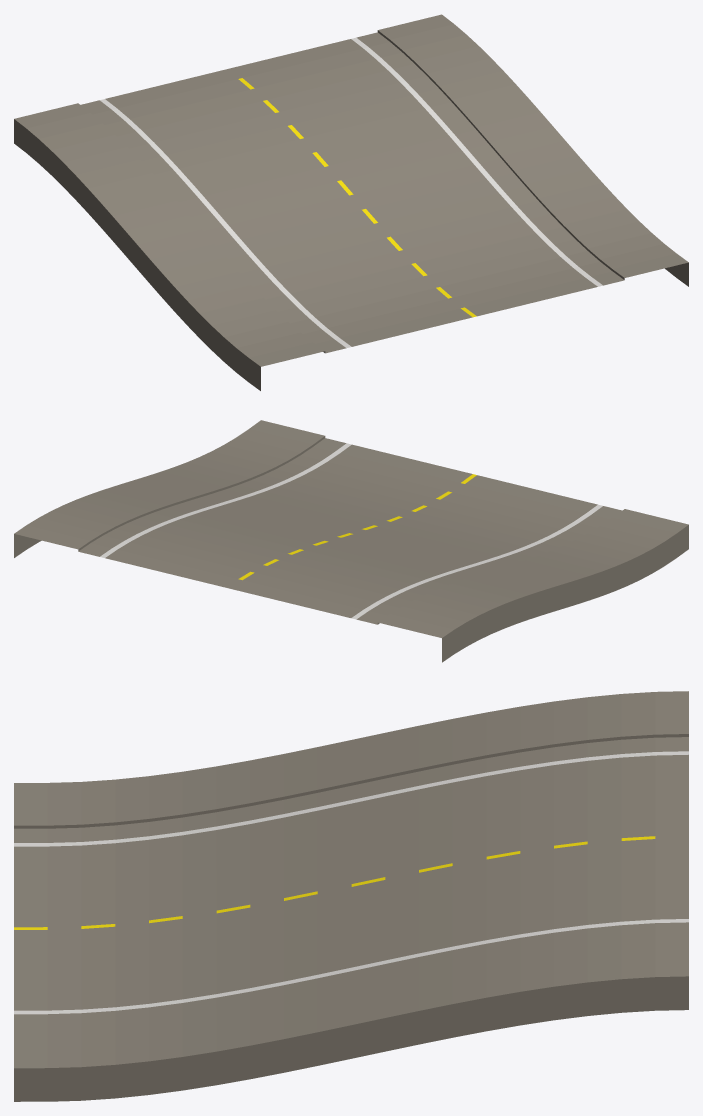
File: straight_Climb.fbx
The picture shows the model from 3 angles, top to bottom: view 1: azimuth 30°, elevation 25°; view 2: azimuth 150°, elevation 25°; view 3: azimuth 270°, elevation 25°; orthographic projection. The views are drawn at different scales.
Parts seen in each view (by area): view 1: Straight; view 2: Straight; view 3: Straight.
Boxes of the visible parts, left/top/right/bottom form: Straight: left=14, top=14, right=688, bottom=390; Straight: left=14, top=420, right=688, bottom=662; Straight: left=14, top=691, right=688, bottom=1101.
Bounding box in the file's own units: 20 × 4.1 × 20.
